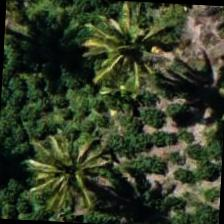Kelapa_Sawit: (25, 124, 120, 218), (85, 0, 181, 93)
